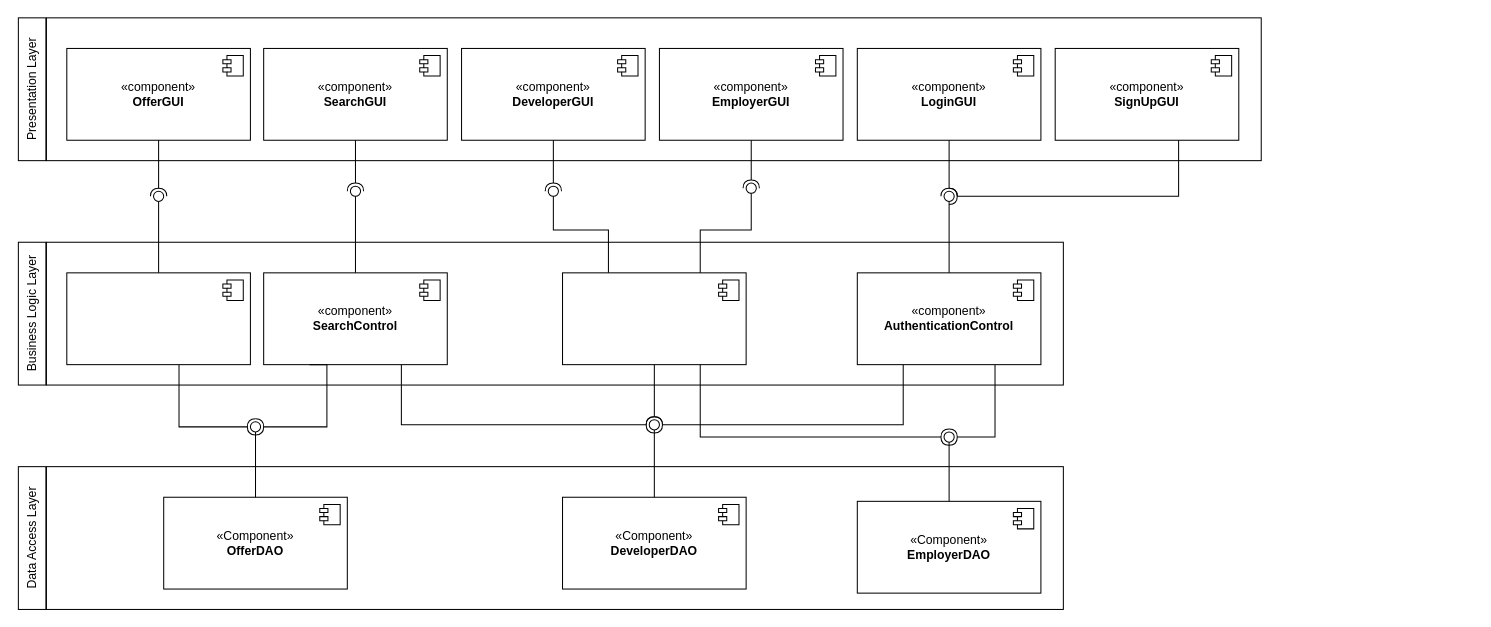
Some shapes in this 1491 by 627 pixel diagram are drawn without their labels. Each missing label, with the centre of its shape:
«component» OfferControl: (158,318)
«component» UserControl: (654,318)
